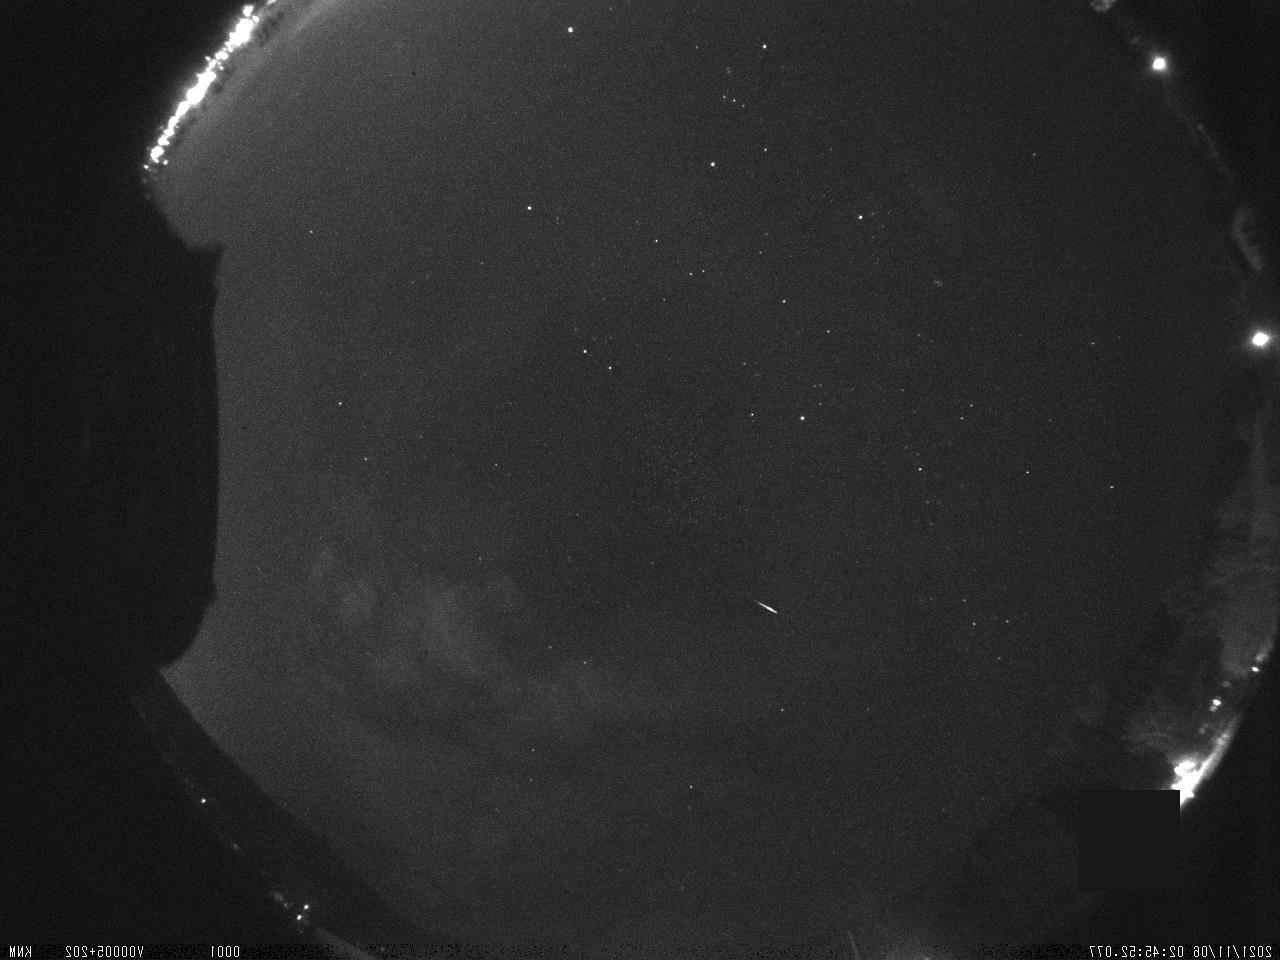meteor: (737, 583, 804, 630)
